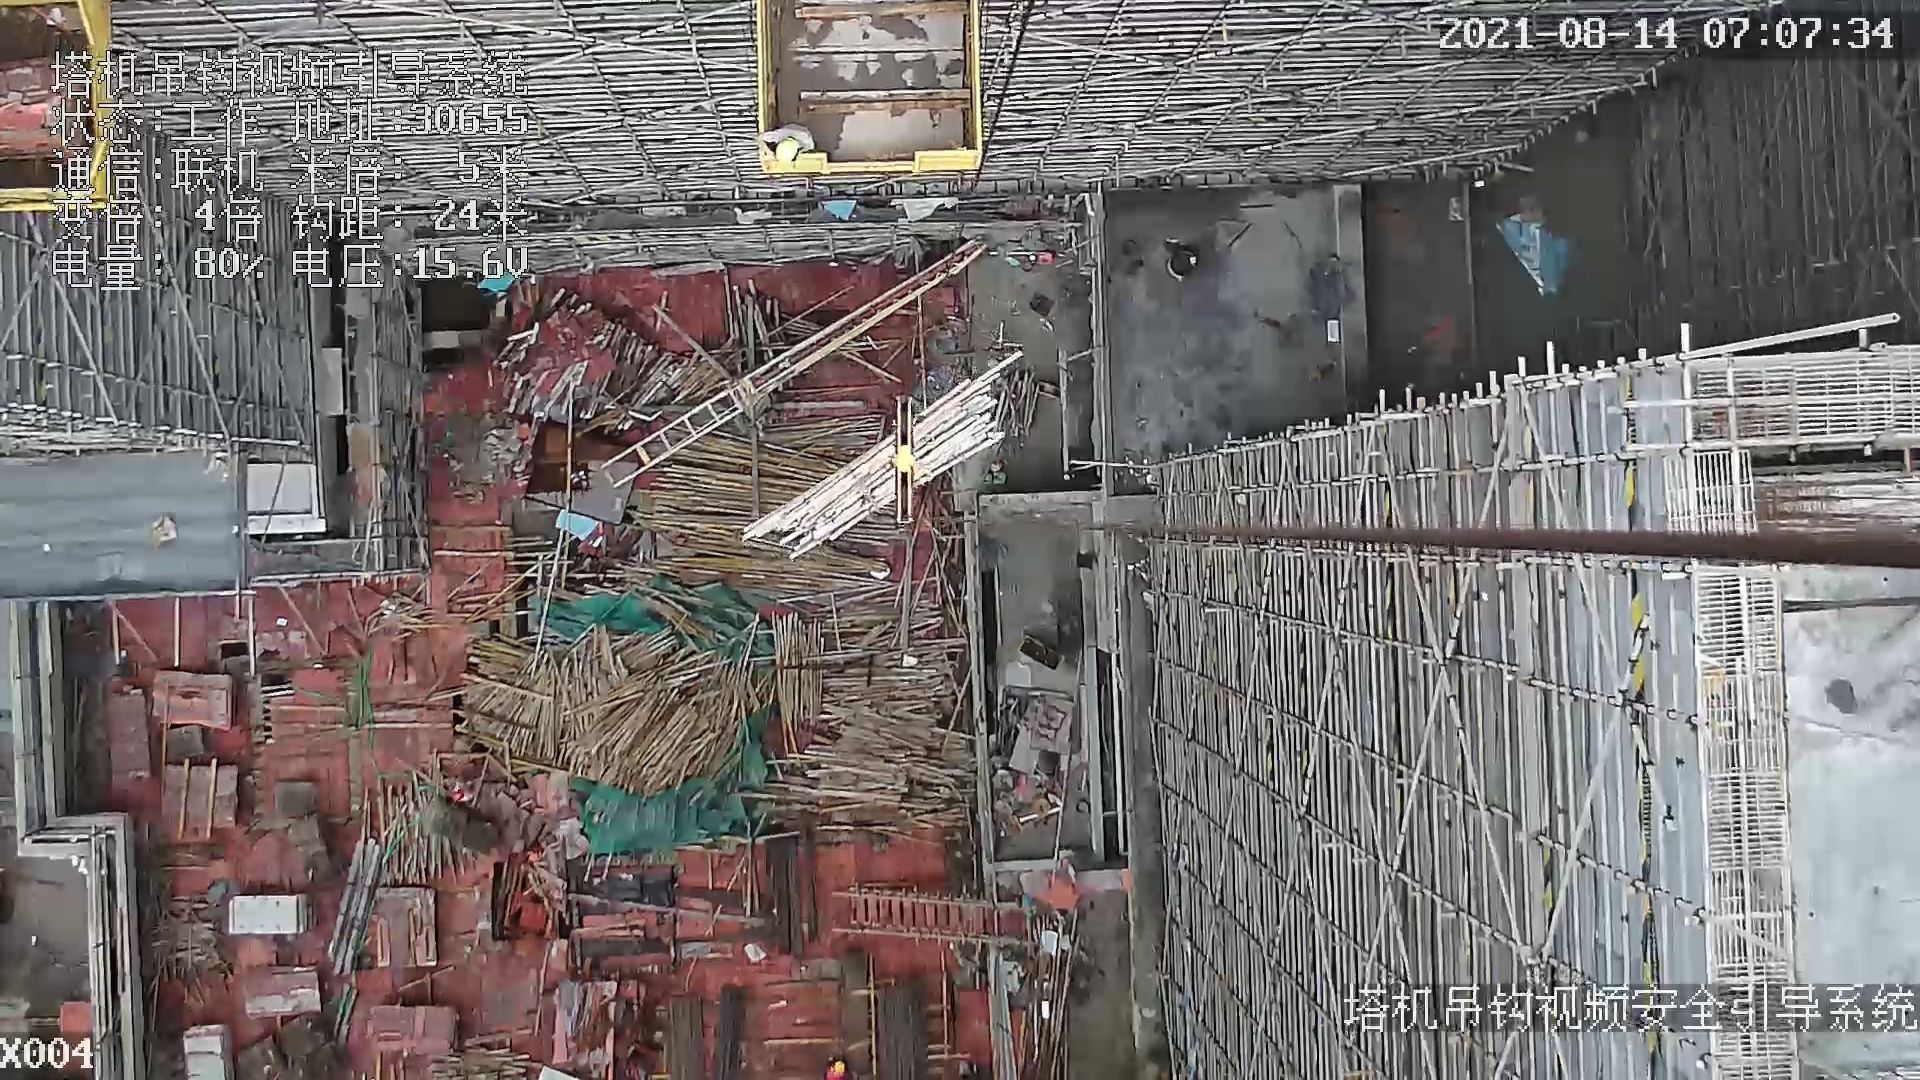helmet: (774, 137, 802, 161)
hook: (887, 392, 929, 526)
person: (753, 122, 814, 173)
